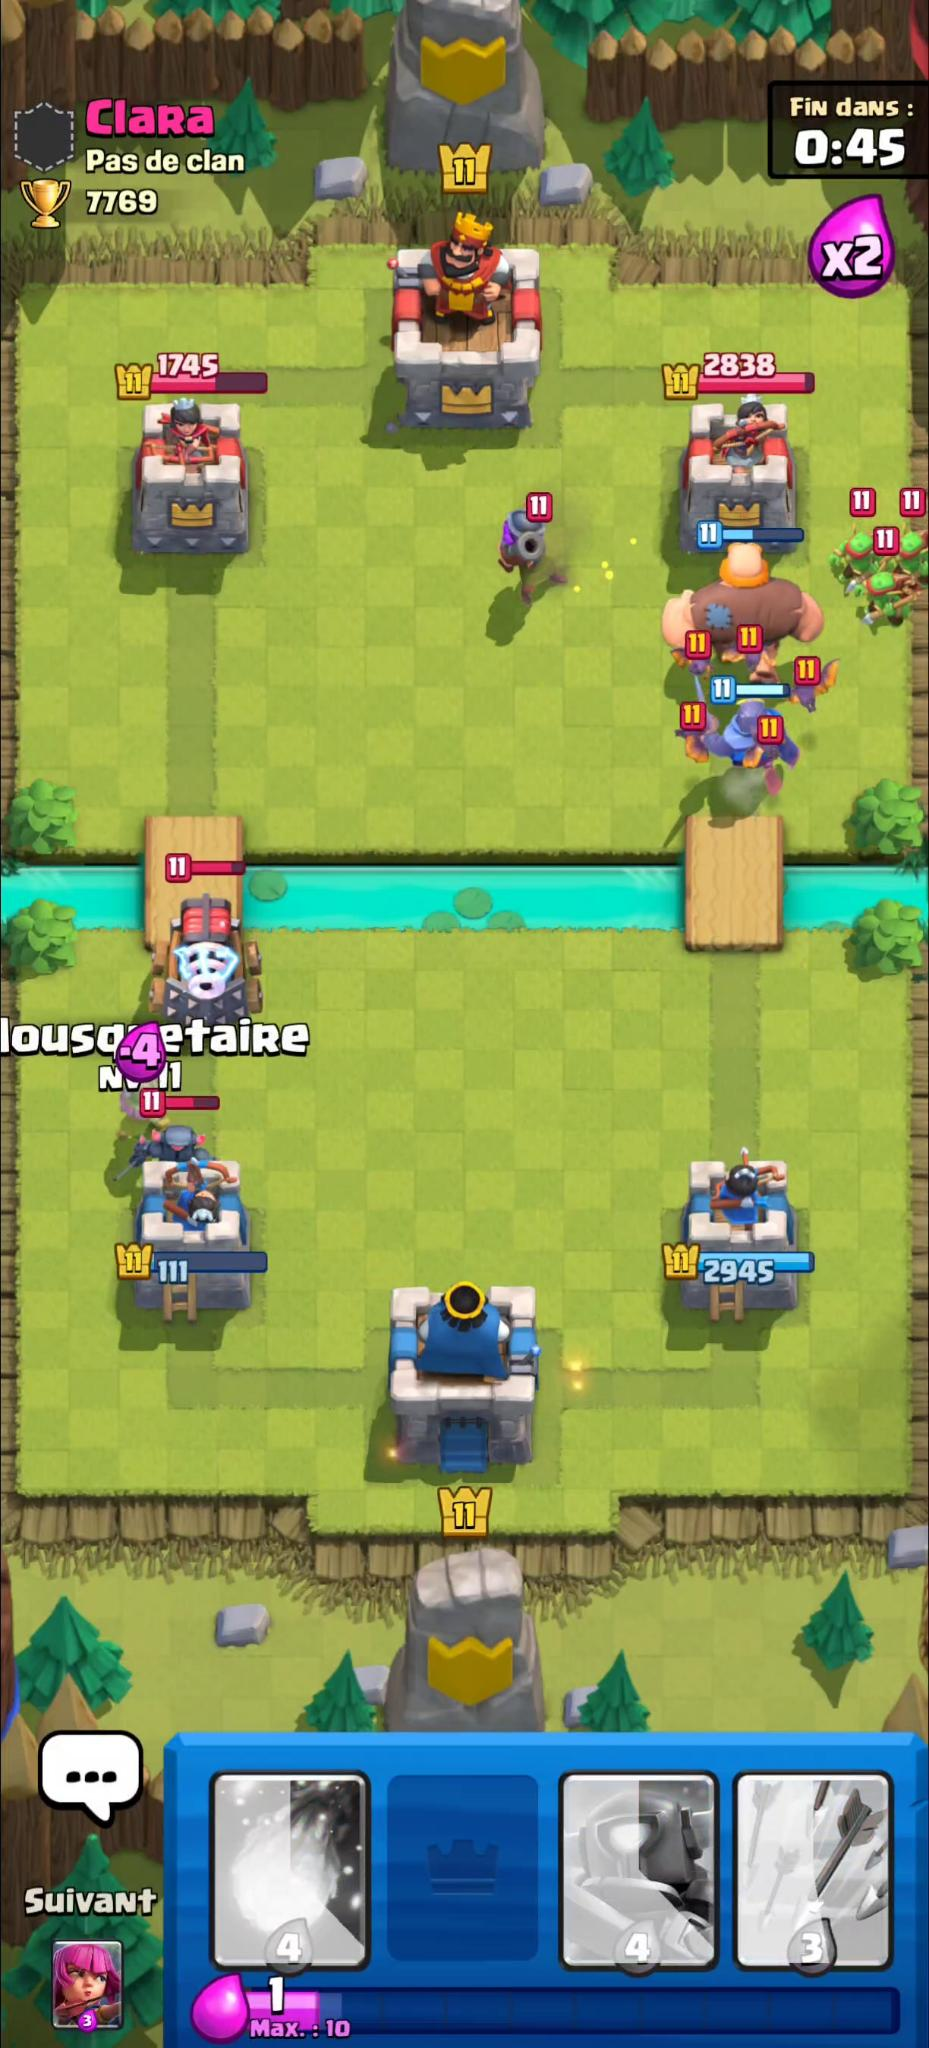bat: (741, 712, 806, 776), (777, 653, 845, 713), (677, 687, 721, 765), (673, 637, 720, 683), (725, 636, 784, 669)
chevalier: (693, 674, 794, 778)
geant: (665, 545, 826, 682)
gobelin_lances: (830, 521, 886, 593), (855, 572, 924, 627), (883, 522, 929, 581)
mini_PEKKA: (118, 1121, 221, 1169)
mousquetaire: (495, 507, 578, 605)
zappy: (145, 896, 267, 1036)
